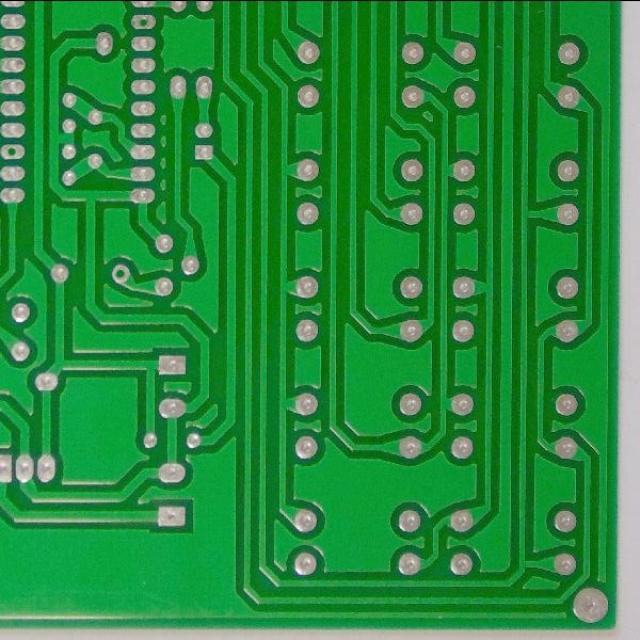missing_hole: (130, 10, 156, 34), (109, 262, 133, 285), (1, 141, 25, 161)
